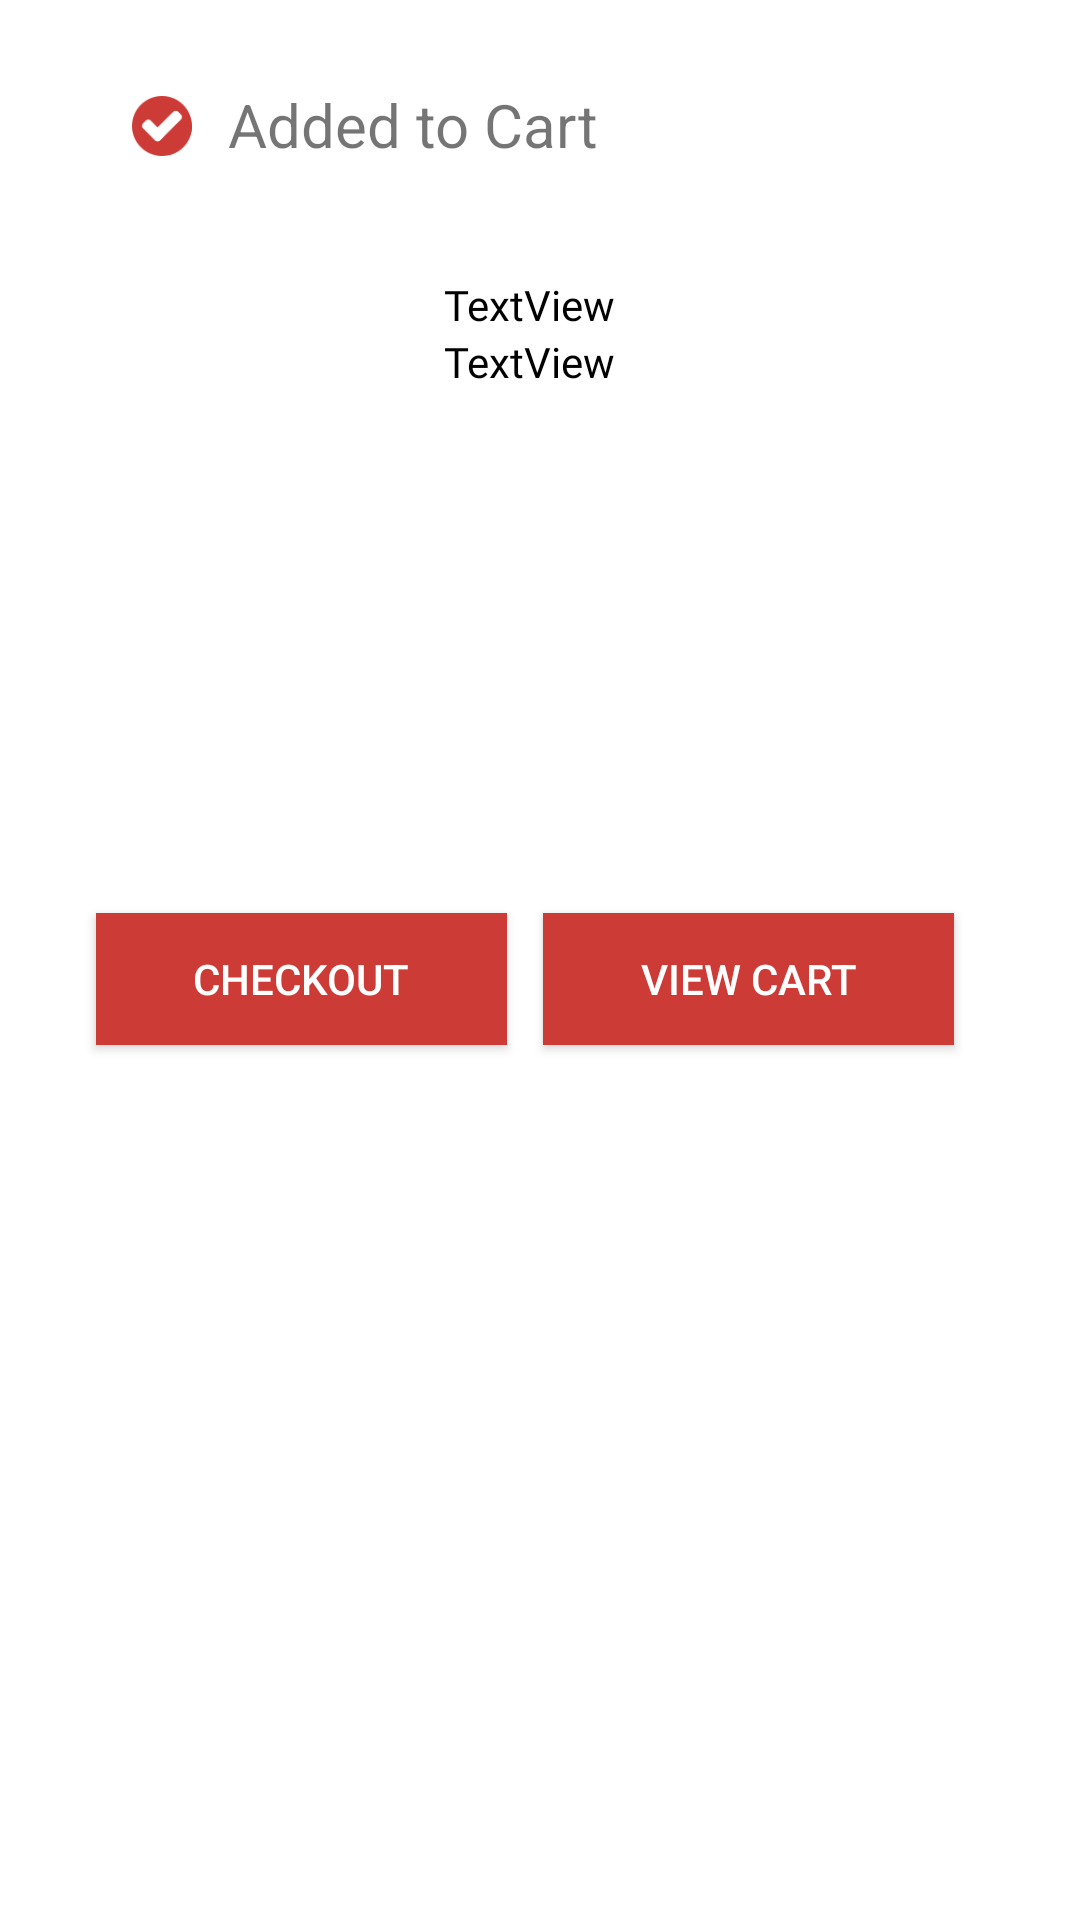

Point at icon controls on the screen. Image size 1080×1920, points as (x,y).
checked: (162,126)
